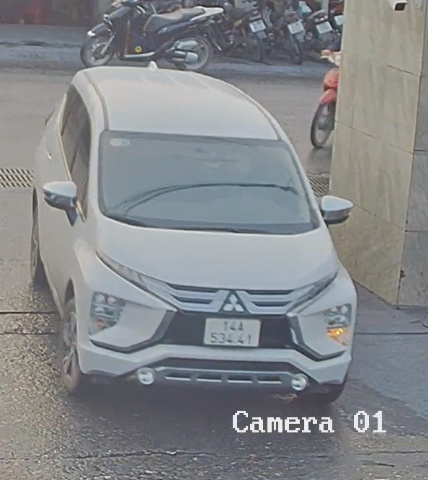vehicle plate: (203, 315, 259, 346)
